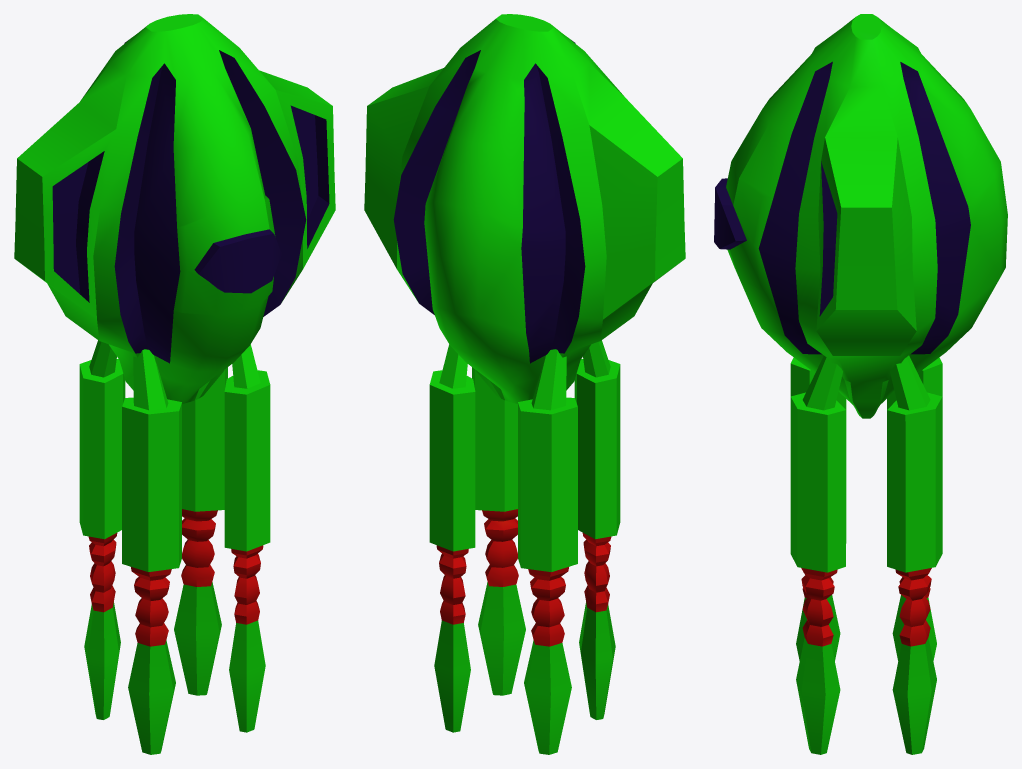
Rendered from mech test4.fbx.
3 views of the same model, side by side, from view 1: azimuth 30°, elevation 25°; view 2: azimuth 150°, elevation 25°; view 3: azimuth 270°, elevation 25° (orthographic).
Visible parts, largest first — view 1: Circle.002; view 2: Circle.002; view 3: Circle.002.
Part boxes in pixels (left/top/right/bottom): Circle.002: left=14, top=14, right=335, bottom=754; Circle.002: left=364, top=14, right=685, bottom=754; Circle.002: left=714, top=14, right=1007, bottom=754.
Size of the model in its own units: 207 by 477 by 181.
